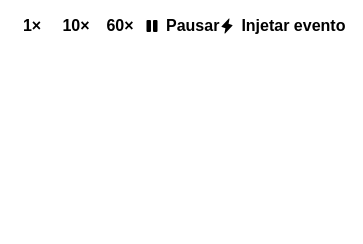
Test: ControlesSimulacao › o menu lista os 5 eventos de TIPOS_EVENTO_SIMULADO e "Acidente" manda { tipo: "acidente" }
Click the button "Injetar evento": (282, 26) [219,8,345,44]
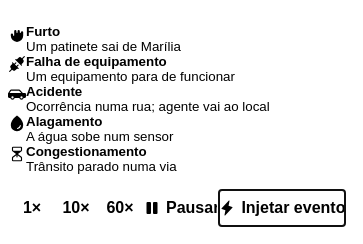
expect the text "Furto" is shown: met, box [26,24,60,39]
expect the text "Falha de equipamento" is shown: met, box [26,54,167,69]
expect the text "Acidente" is shown: met, box [26,84,82,99]
Click the button "Acidente Ocorrência numa rua; agente vai ao local": (156, 99) [8,84,304,114]
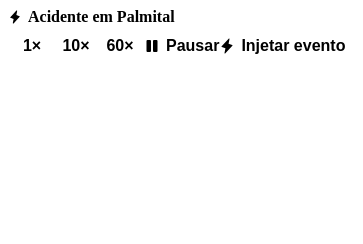
expect the text "Acidente em Palmital" is shown: met, box [8,8,175,26]
